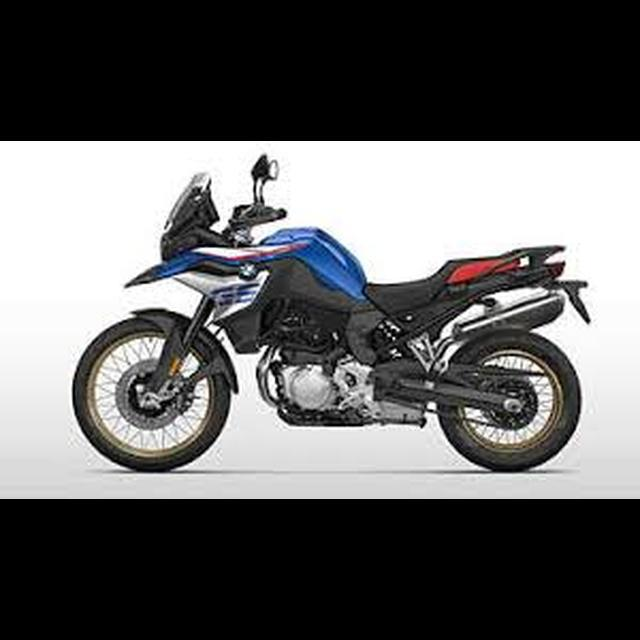motorcycle: (71, 147, 592, 478)
